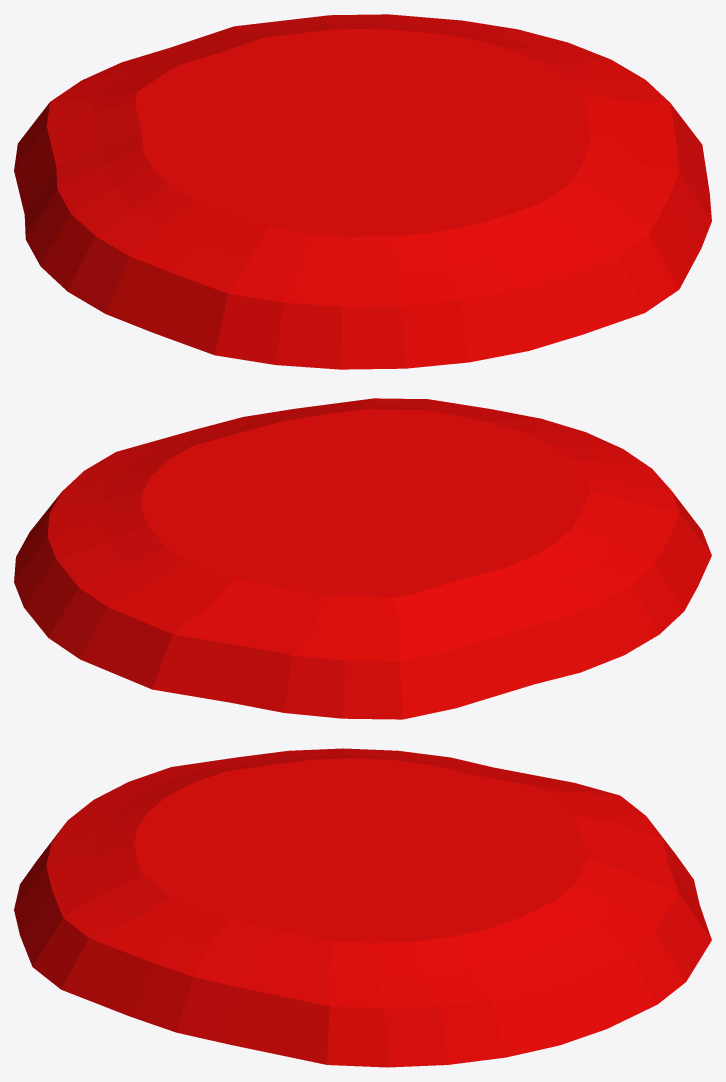
The model's file is PavingStoneRound.fbx.
The picture shows the model from 3 angles, top to bottom: view 1: azimuth 30°, elevation 25°; view 2: azimuth 150°, elevation 25°; view 3: azimuth 270°, elevation 25°; orthographic projection. The views are drawn at different scales.
Visible parts, largest first — view 1: Cylinder; view 2: Cylinder; view 3: Cylinder.
Boxes of the visible parts, x1,y1,x2,y2 form: Cylinder: [14, 14, 711, 369]; Cylinder: [14, 398, 711, 719]; Cylinder: [14, 748, 711, 1067].
Size of the model in its own units: 219 by 25.29 by 225.
